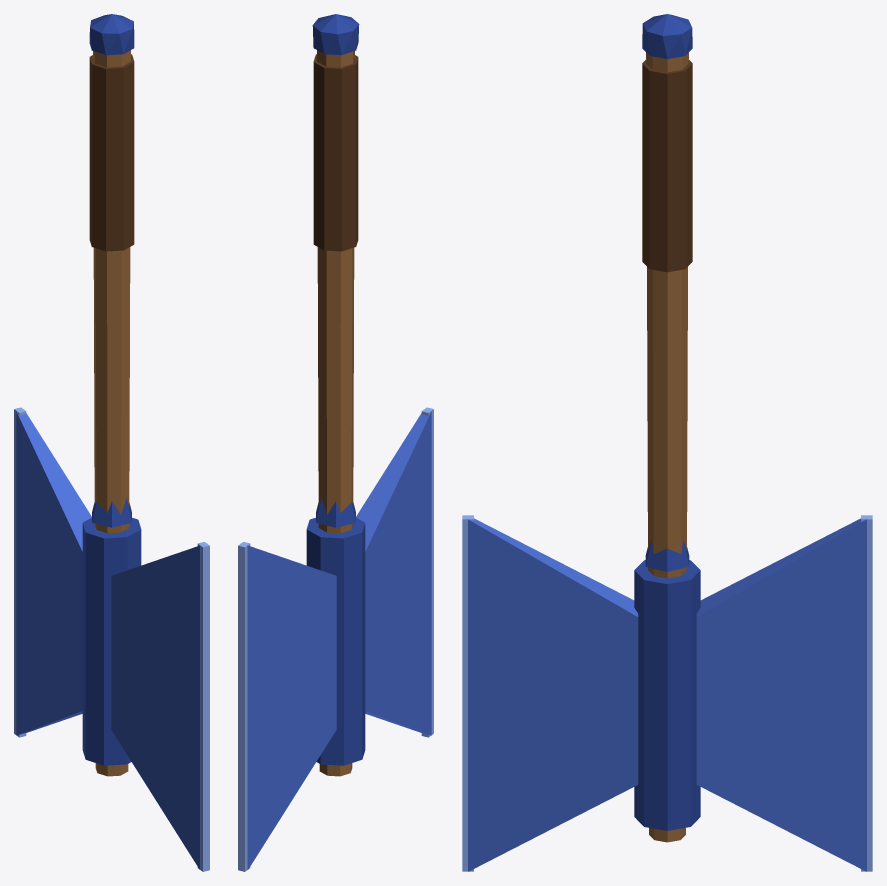
The model's file is held_mithril_axe.glb.
3 renders of one model, left to right at view 1: azimuth 30°, elevation 25°; view 2: azimuth 150°, elevation 25°; view 3: azimuth 270°, elevation 25°, orthographic. The views are drawn at different scales.
Parts seen in each view (by area): view 1: held_mithril_axe; view 2: held_mithril_axe; view 3: held_mithril_axe.
Boxes of the visible parts, x1=… form: held_mithril_axe: x1=14, y1=14, x2=209, y2=871; held_mithril_axe: x1=238, y1=14, x2=433, y2=871; held_mithril_axe: x1=462, y1=14, x2=872, y2=871.
Size of the model in its own units: 0.068 by 0.971 by 0.422.
